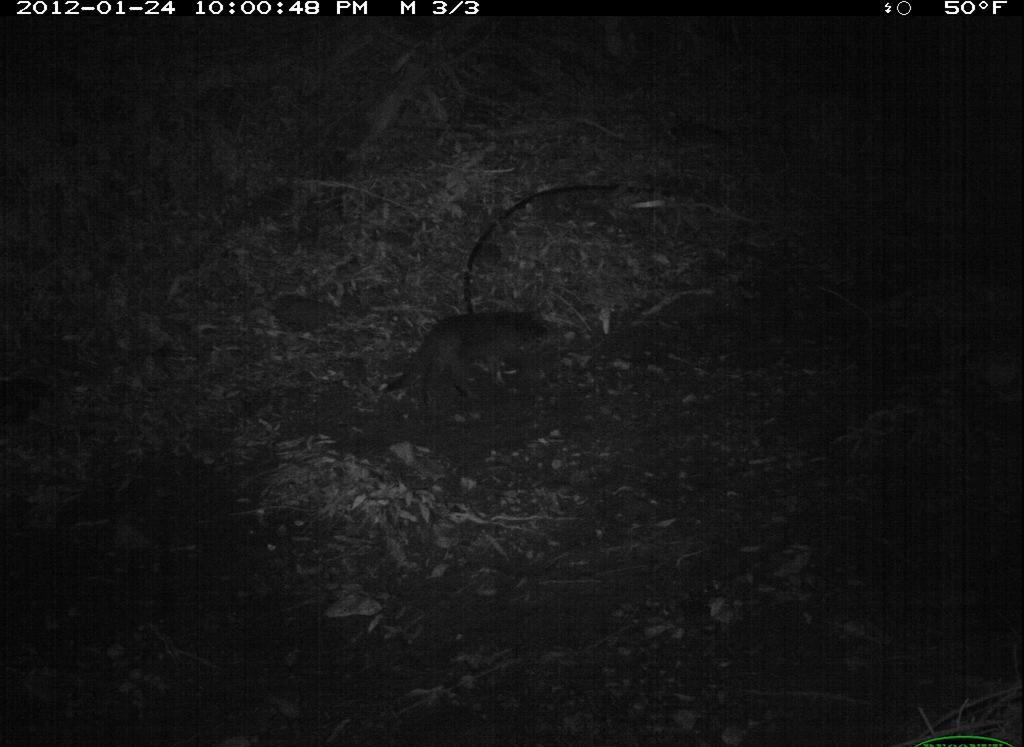opossum: (376, 291, 579, 420)
